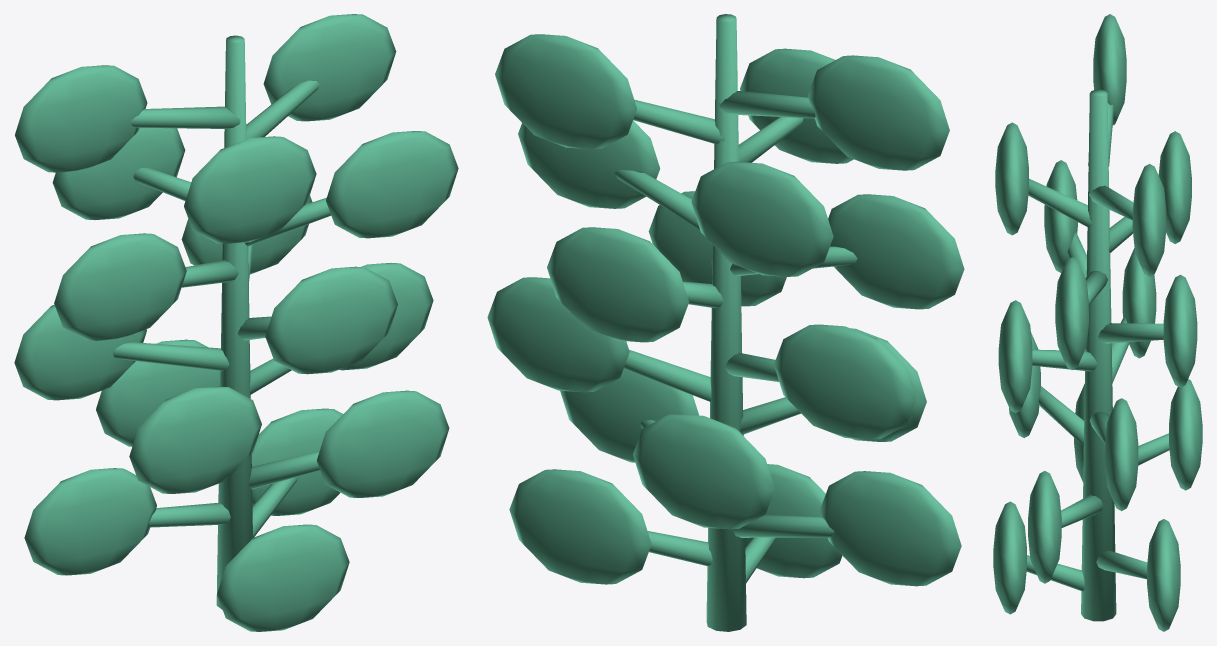
Rendered from underwater-reef-worlds-halimeda-d0b208bc__7044.glb.
3 renders of one model, left to right at view 1: azimuth 30°, elevation 25°; view 2: azimuth 150°, elevation 25°; view 3: azimuth 270°, elevation 25°, orthographic. The views are drawn at different scales.
Visible parts, largest first — view 1: halimeda; view 2: halimeda; view 3: halimeda.
Boxes of the visible parts, x1,y1,x2,y2 form: halimeda: (14,14,458,631); halimeda: (487,14,964,631); halimeda: (993,14,1202,631).
Bounding box in the file's own units: 0.5131 × 0.655 × 0.2365.
